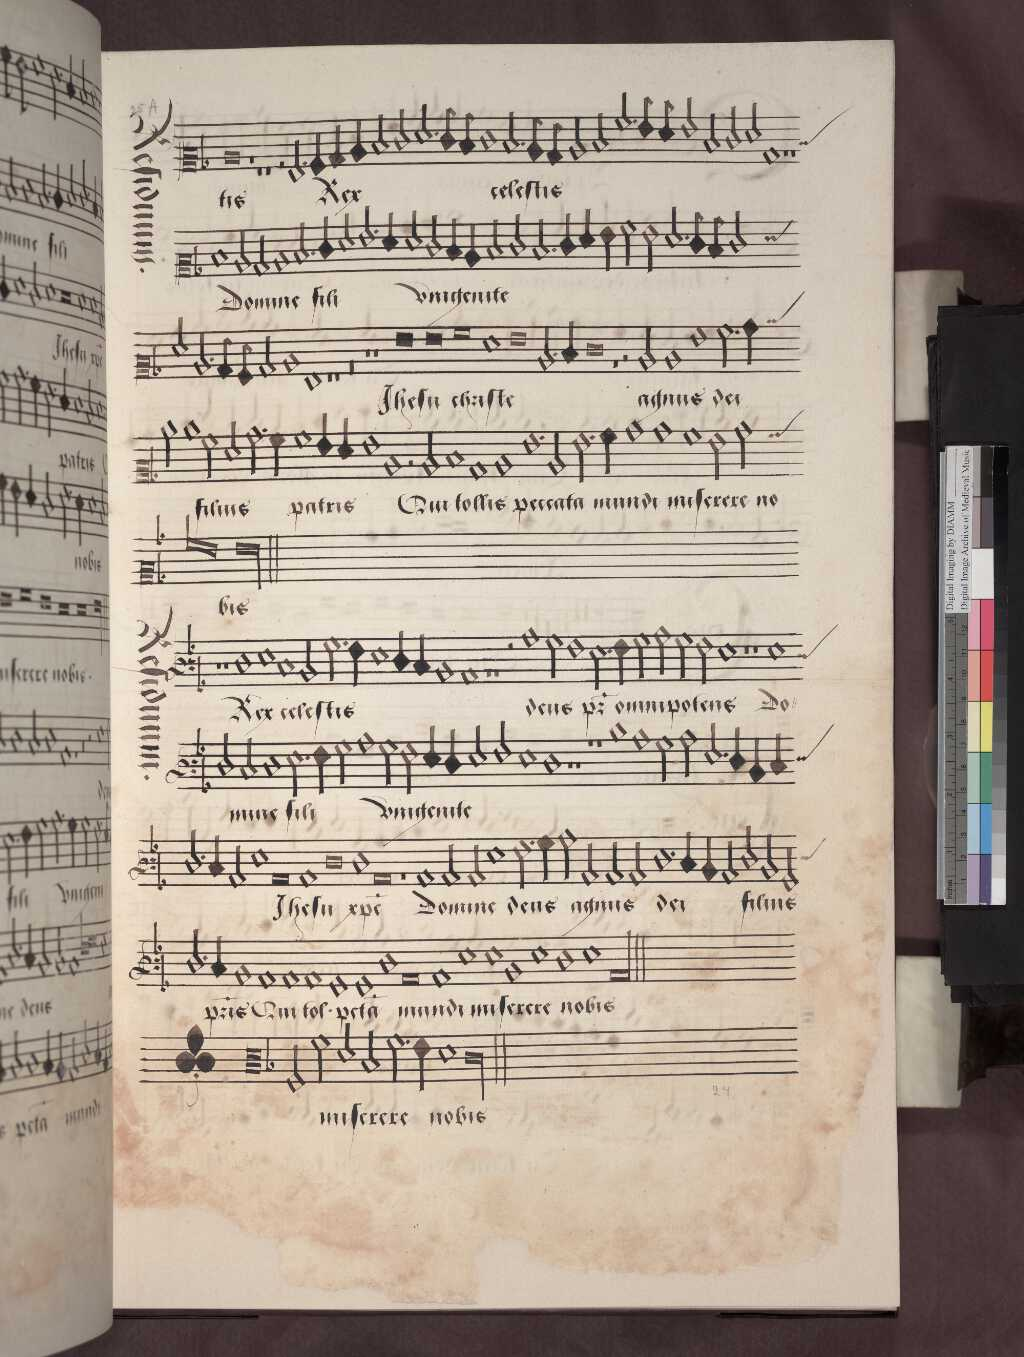barline: (490, 1022, 511, 1092)
c clef_7: (239, 1029, 266, 1087)
flat_8: (260, 1031, 278, 1082)
longa_7: (460, 1038, 487, 1104)
minim_11: (284, 1032, 308, 1098)
minim_4: (308, 1025, 332, 1088), (382, 1025, 406, 1088)
minim_6: (335, 1017, 357, 1070)
minim_8: (360, 1022, 380, 1079)
point: (399, 1031, 415, 1053)
semibreve_6: (433, 1033, 457, 1072)
semiminim_5: (412, 1027, 433, 1097)
